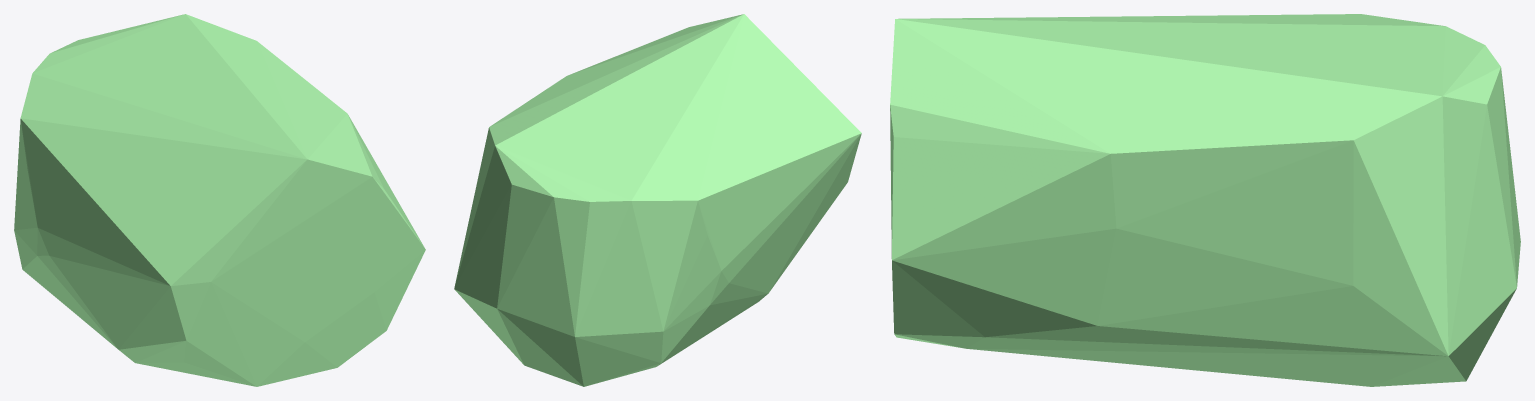
Rendered from linkhou_LR4_R560_link5_respondable_coll_10.dae.
3 renders of one model, left to right at view 1: azimuth 30°, elevation 25°; view 2: azimuth 150°, elevation 25°; view 3: azimuth 270°, elevation 25°, orthographic. The views are drawn at different scales.
Parts seen in each view (by area): view 1: Node_00000209DB3ACC00; view 2: Node_00000209DB3ACC00; view 3: Node_00000209DB3ACC00.
Part boxes in pixels (box(x1,y1,x2,y2)): Node_00000209DB3ACC00: box(14, 14, 425, 386); Node_00000209DB3ACC00: box(454, 14, 861, 386); Node_00000209DB3ACC00: box(890, 14, 1520, 386).
Bounding box in the file's own units: 0.0969 × 0.0909 × 0.1501.
